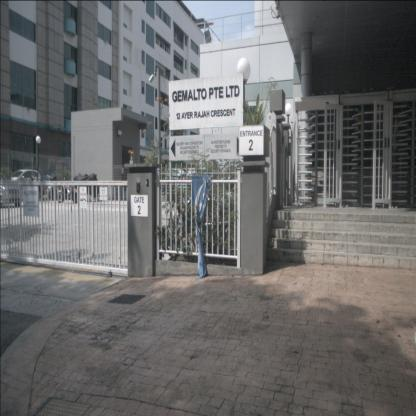vehicle-car: (0, 172, 23, 208), (6, 170, 42, 193)
vehicle-motorcycle: (57, 173, 78, 204), (74, 172, 99, 198), (37, 175, 57, 201)
